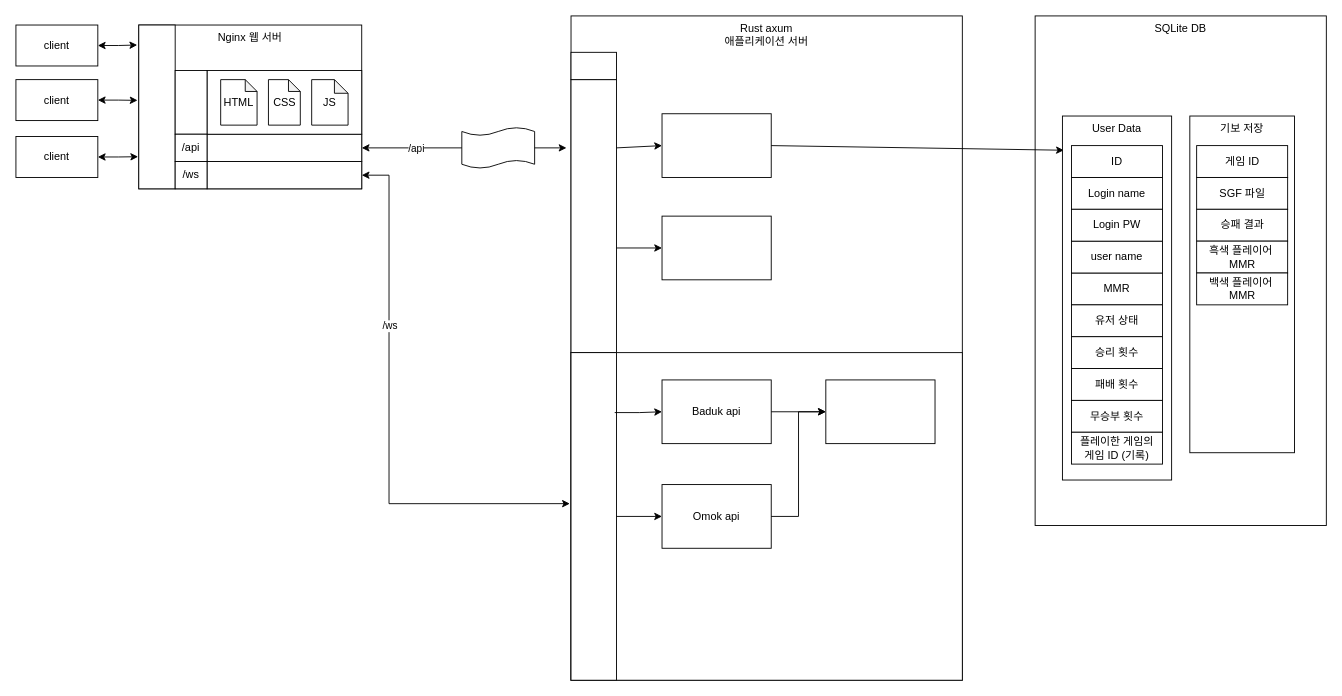
Some shapes in this 1342 by 696 pixel diagram are drawn without their labels. The centre of each missing label's shape, as x and y in pixels:
API: (x=284, y=147)
Baduk board api: (x=880, y=411)
get 요청: (x=190, y=102)
http Router: (x=593, y=216)
http 요청: (x=156, y=106)
main: (x=593, y=65)
Room api: (x=716, y=247)
swagger: (x=498, y=147)
User api: (x=716, y=145)
Web socket 연결: (x=284, y=175)
ws Router: (x=593, y=516)
